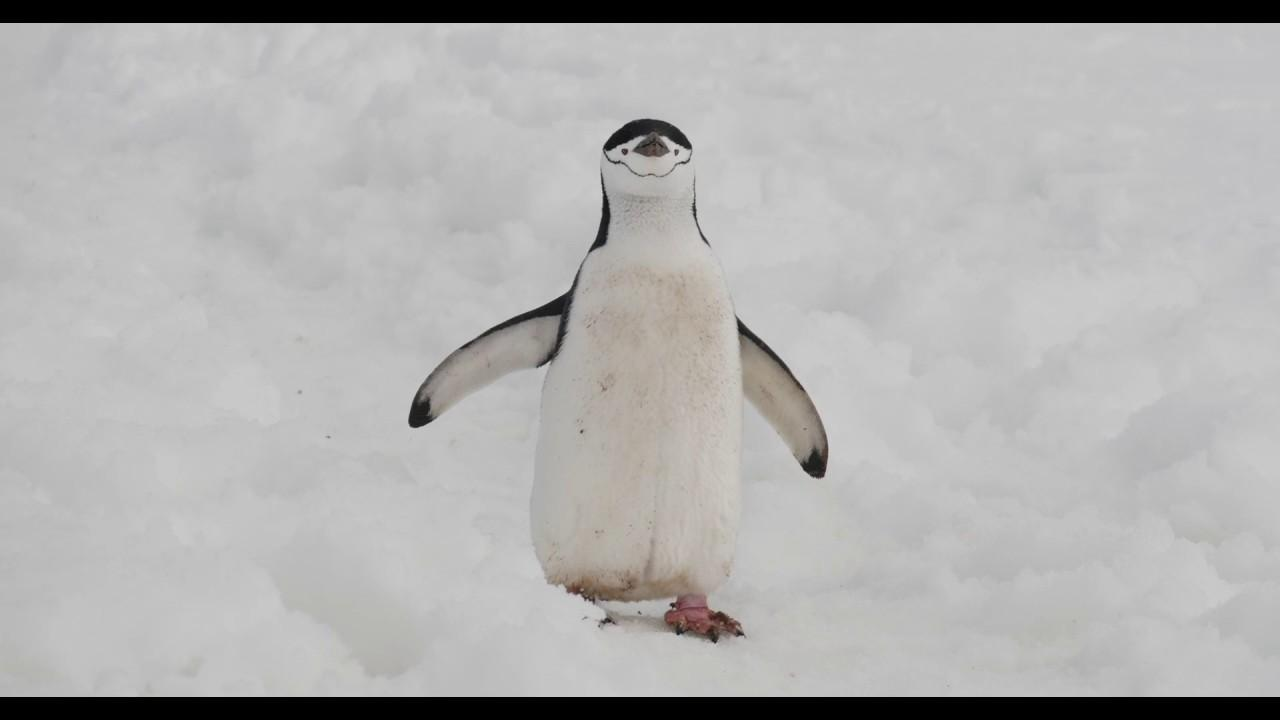chinstrap: (394, 82, 897, 697)
